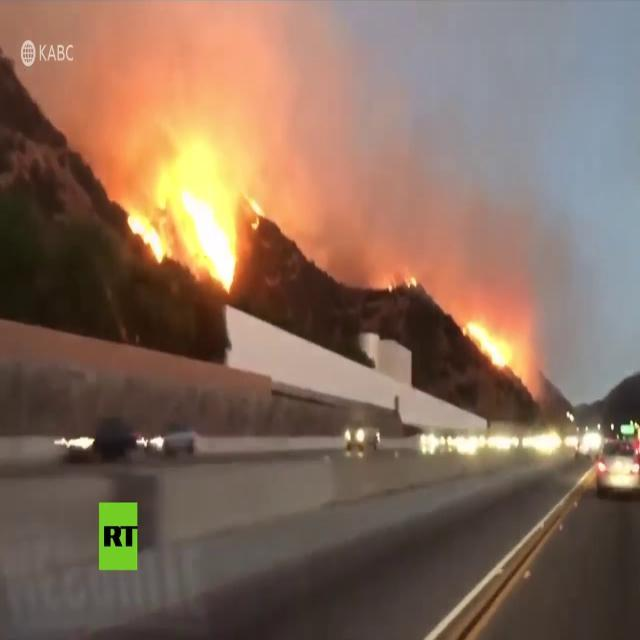Fire: (154, 117, 240, 286), (467, 308, 513, 379)
Smoke: (73, 8, 340, 99)
